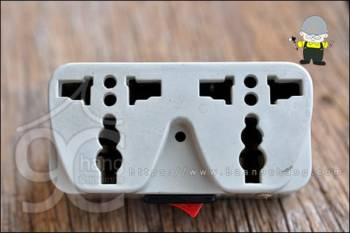Three_eye_plug: (38, 49, 322, 207)
